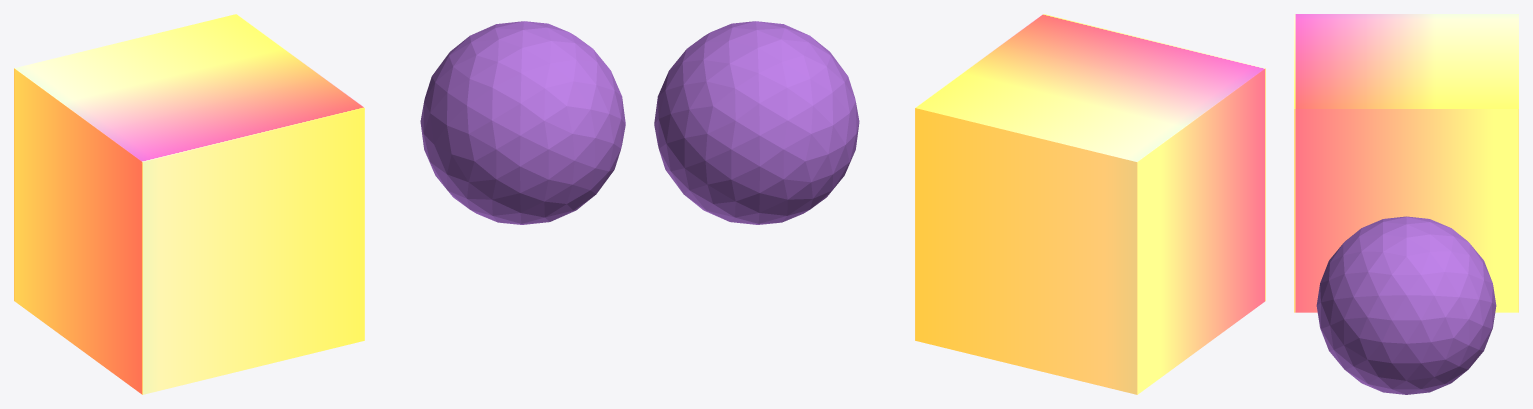
Rendered from basic.glb.
The picture shows the model from 3 angles, left to right: view 1: azimuth 30°, elevation 25°; view 2: azimuth 150°, elevation 25°; view 3: azimuth 270°, elevation 25°; orthographic projection. The views are drawn at different scales.
Visible parts, largest first — view 1: body, ball; view 2: body, ball; view 3: body, ball.
Part boxes in pixels (box(x1,y1,x2,y2)): body: box(14, 14, 364, 394); ball: box(420, 21, 625, 224); body: box(915, 14, 1265, 394); ball: box(654, 21, 859, 224); body: box(1294, 14, 1518, 312); ball: box(1316, 216, 1496, 394).
Size of the model in its own units: 2.4 by 1 by 1.
2 materials, 1 textured.
